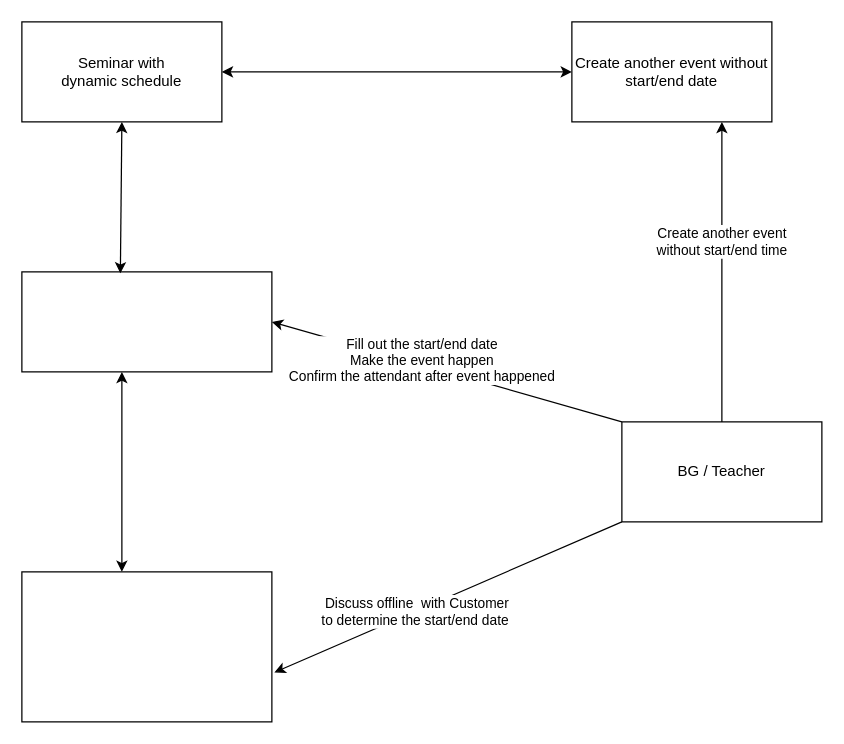
This 844x744 diagram has some shape labels left out. The box of each missing label's shape, as (x1, y1, x2, y2) in pixels:
Create event without start/end date: (21, 271, 272, 372)
Customer registration (OrderModel): (21, 571, 272, 722)
